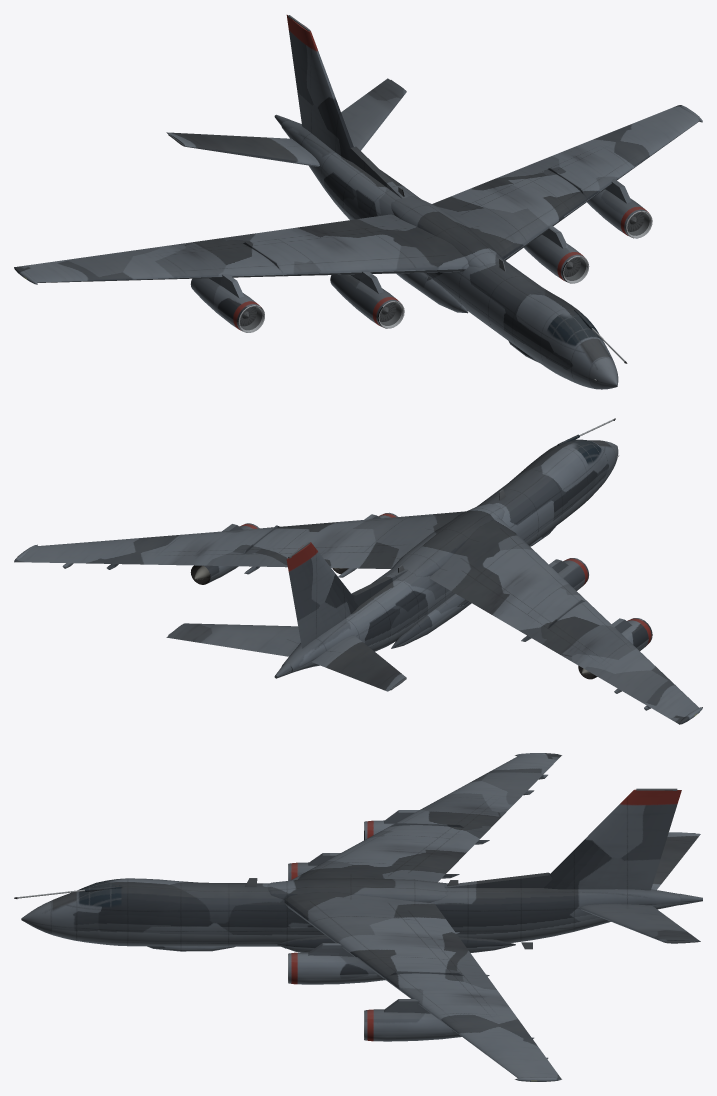
File: heavy-bomber.fbx
The picture shows the model from 3 angles, top to bottom: view 1: azimuth 30°, elevation 25°; view 2: azimuth 150°, elevation 25°; view 3: azimuth 270°, elevation 25°; orthographic projection.
Parts seen in each view (by area): view 1: Body; view 2: Body; view 3: Body.
Boxes of the visible parts, left/top/right/bottom form: Body: left=14, top=15, right=702, bottom=389; Body: left=14, top=418, right=702, bottom=724; Body: left=14, top=753, right=702, bottom=1081.
Bounding box in the file's own units: 72.74 × 16.6 × 64.8.
1 material, 1 textured.
